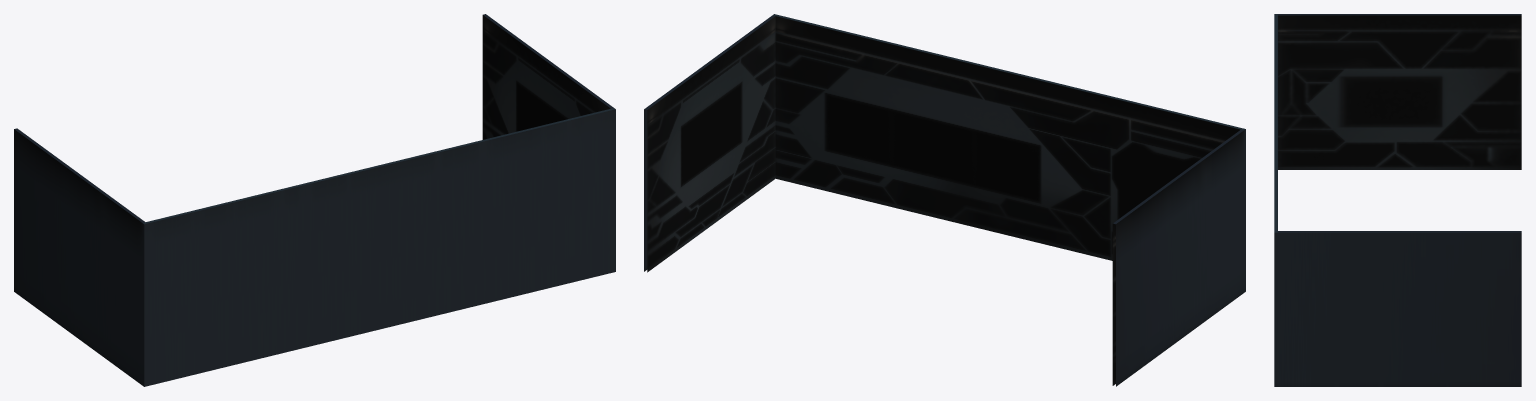
Rendered from SciFi_Conf_Room_Wall.FBX.
3 renders of one model, left to right at view 1: azimuth 30°, elevation 25°; view 2: azimuth 150°, elevation 25°; view 3: azimuth 270°, elevation 25°, orthographic. The views are drawn at different scales.
Visible parts, largest first — view 1: SciFi_Conf_Room_Wall; view 2: SciFi_Conf_Room_Wall; view 3: SciFi_Conf_Room_Wall.
Boxes of the visible parts, bbox=[...] form: SciFi_Conf_Room_Wall: bbox=[14, 14, 615, 386]; SciFi_Conf_Room_Wall: bbox=[644, 14, 1245, 386]; SciFi_Conf_Room_Wall: bbox=[1274, 14, 1521, 386].
Size of the model in its own units: 11365 by 3745 by 5430.
Materials: 1 (1 with a texture image).
